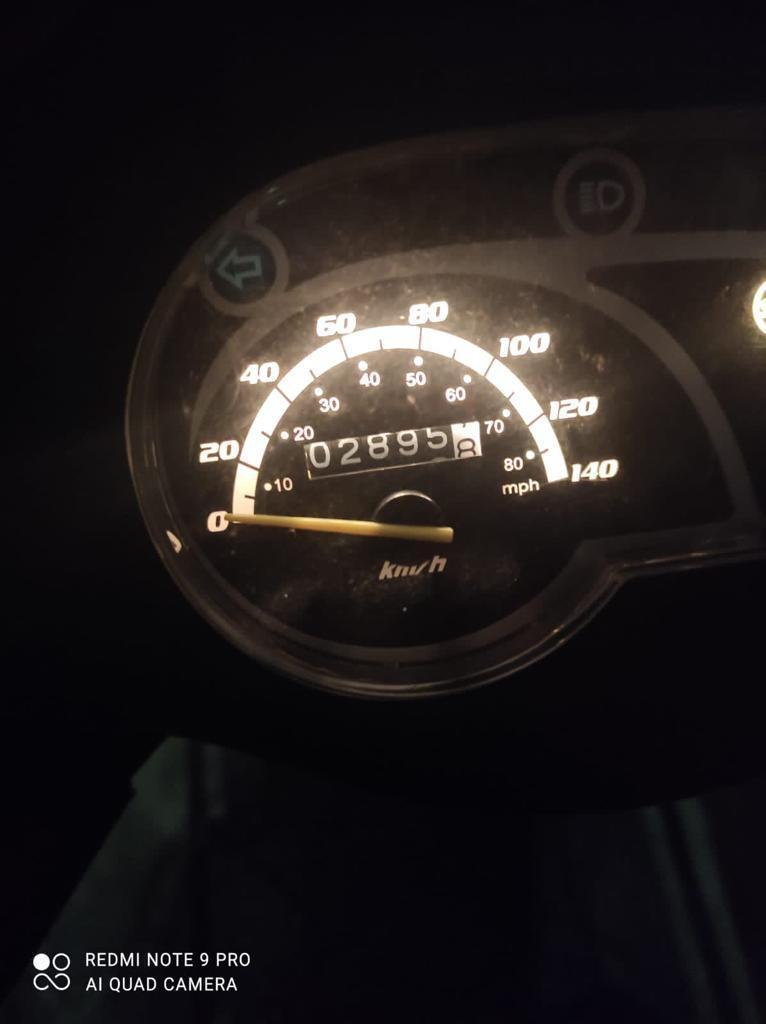0: (307, 440, 332, 470), (303, 424, 315, 440)
2: (337, 436, 362, 468), (296, 426, 303, 442)
5: (424, 424, 449, 452)
8: (365, 431, 390, 461), (454, 435, 478, 459)
9: (394, 428, 419, 458)
odometer: (297, 415, 486, 483)
